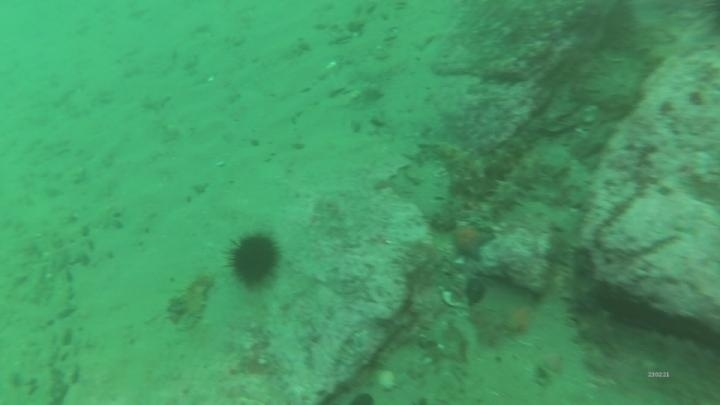echinus: (223, 229, 284, 291)
holothurian: (558, 244, 620, 354), (419, 135, 491, 183), (486, 157, 545, 214)
starfish: (446, 220, 496, 262)
